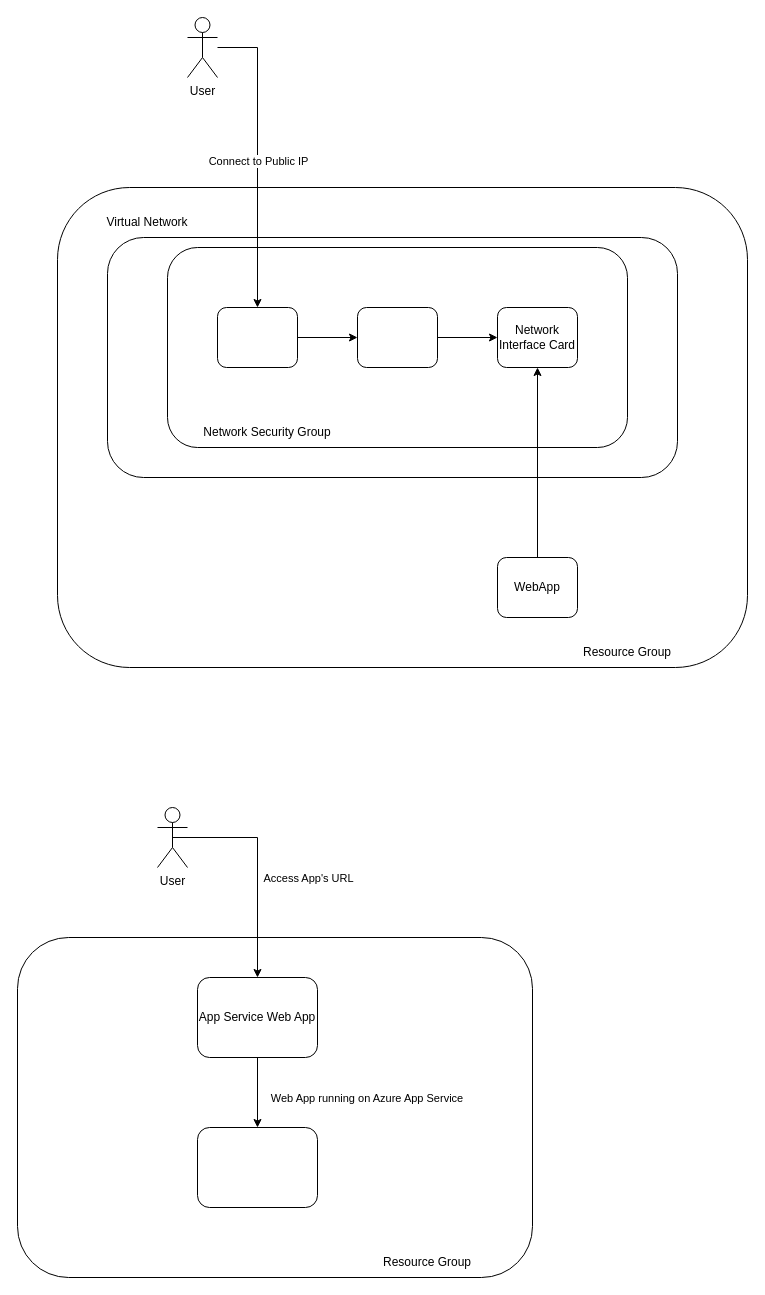
Image size: 765x1295. Some labels were removed from this diagram. The shapes that lost their labels are listed below. From the top down, each one's centre as x and y in pixels, then its label:
the point at 257,337: Public IP
the point at 397,337: Load Balancer
the point at 257,1167: App Service Plan
